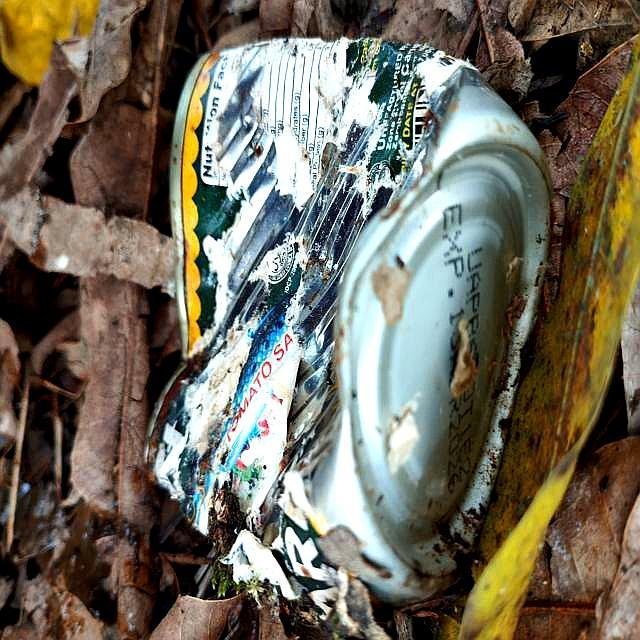Non-biodegradable: (145, 41, 553, 611)
